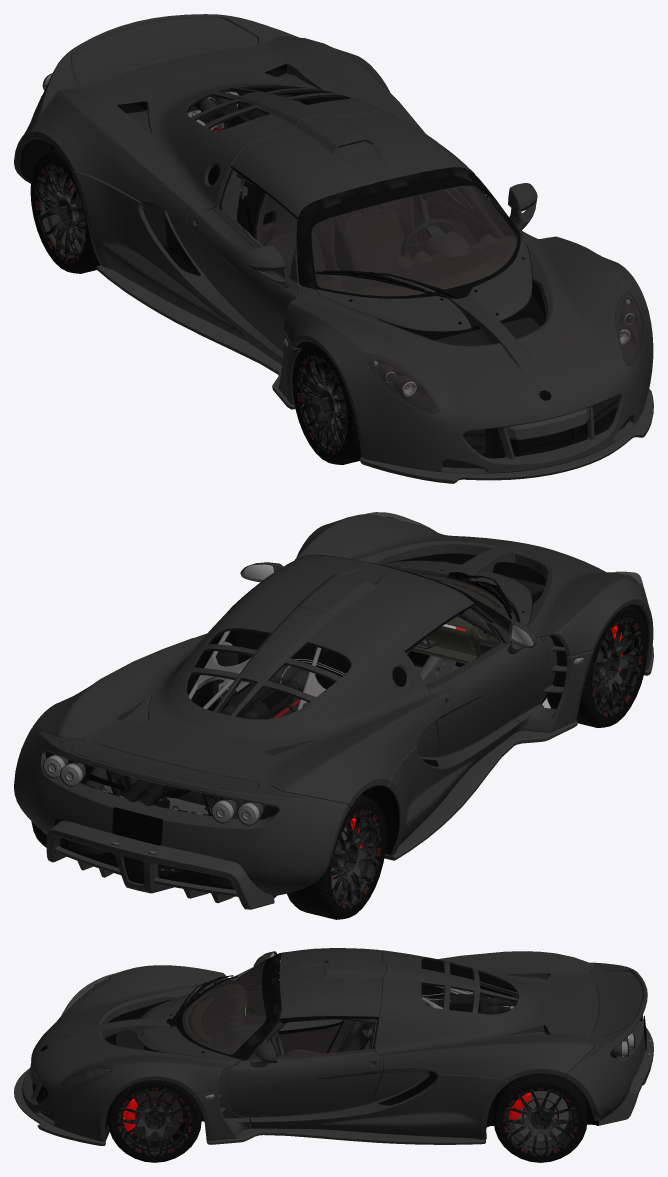
The model's file is hennessey-venom.glb.
The picture shows the model from 3 angles, top to bottom: view 1: azimuth 30°, elevation 25°; view 2: azimuth 150°, elevation 25°; view 3: azimuth 270°, elevation 25°; orthographic projection. The views are drawn at different scales.
Parts seen in each view (by area): view 1: heDEF-Body_2, door_rf_ok_1, heDEF- Wheel.Ft.R_6, heDEF- Wheel.Bk.R_10, door_lf_ok_0; view 2: heDEF-Body_2, door_rf_ok_1, heDEF- Wheel.Bk.R_10, heDEF- Wheel.Ft.R_6, door_lf_ok_0; view 3: heDEF-Body_2, door_lf_ok_0, heDEF- Wheel.Bk.L_8, heDEF- Wheel.Ft.L_4, door_rf_ok_1.
Part boxes in pixels (x1,y1,x2,y2): heDEF-Body_2: (14,14,653,483); door_rf_ok_1: (186,207,301,357); heDEF- Wheel.Ft.R_6: (292,342,361,464); heDEF- Wheel.Bk.R_10: (30,149,100,273); door_lf_ok_0: (426,177,537,245); heDEF-Body_2: (14,512,653,909); door_rf_ok_1: (425,621,547,756); heDEF- Wheel.Bk.R_10: (287,794,386,919); heDEF- Wheel.Ft.R_6: (547,605,647,727); door_lf_ok_0: (194,562,282,639); heDEF-Body_2: (14,948,653,1145); door_lf_ok_0: (226,1039,383,1117); heDEF- Wheel.Bk.L_8: (493,1073,587,1162); heDEF- Wheel.Ft.L_4: (107,1080,201,1162); door_rf_ok_1: (247,951,328,1023).
Bounding box in the file's own units: 2.08 × 1.25 × 4.92.
Materials: 26 (15 with a texture image).
